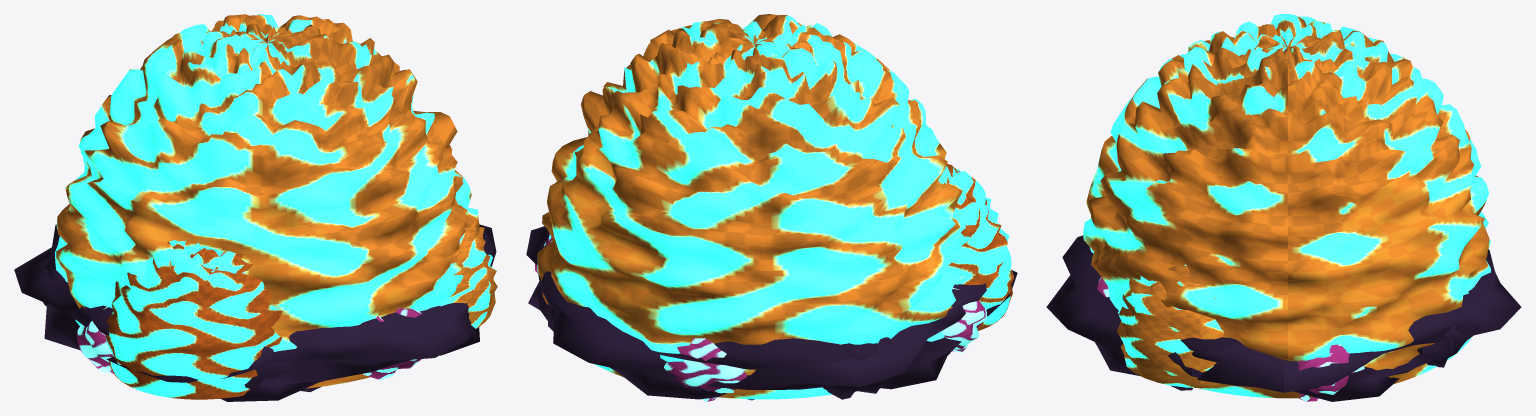
Rendered from brain_coral.glb.
3 views of the same model, side by side, from view 1: azimuth 30°, elevation 25°; view 2: azimuth 150°, elevation 25°; view 3: azimuth 270°, elevation 25° (orthographic). The views are drawn at different scales.
Parts seen in each view (by area): view 1: brain_coral; view 2: brain_coral; view 3: brain_coral.
Part boxes in pixels (<box>): brain_coral: <box>14,14,497,401</box>; brain_coral: <box>526,14,1017,401</box>; brain_coral: <box>1046,14,1521,401</box>.
Size of the model in its own units: 2.28 by 1.56 by 2.22.
Materials: 1 (1 with a texture image).
